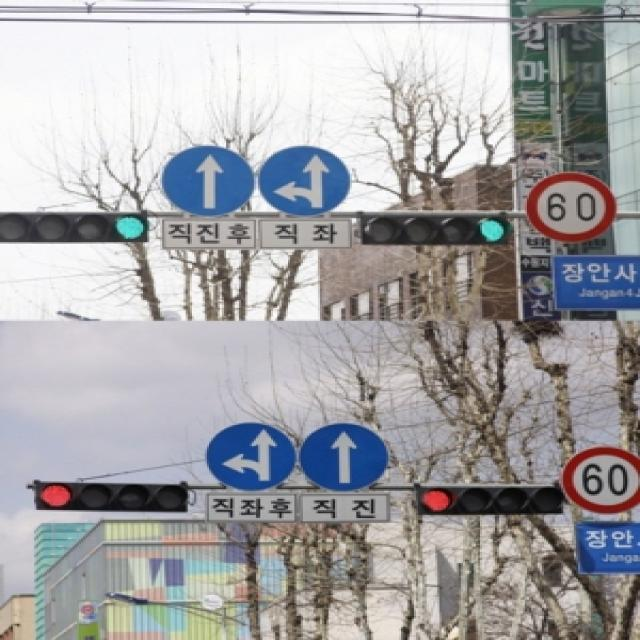Green Light: (475, 214, 513, 246), (112, 213, 148, 240)
Red Light: (33, 477, 73, 512), (414, 486, 456, 514)
